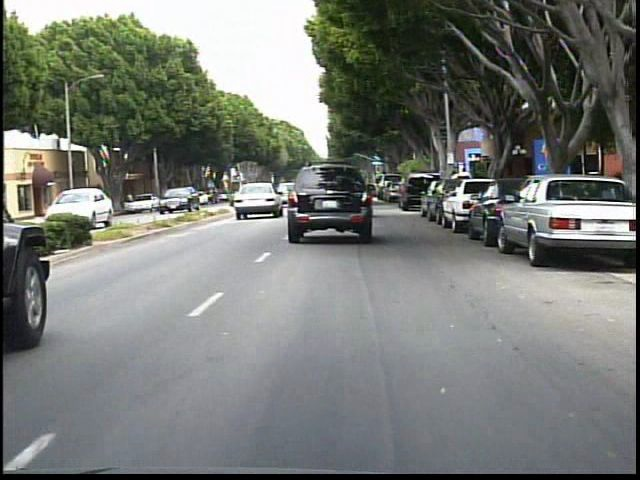person: (457, 168, 473, 204), (446, 167, 461, 204), (120, 188, 138, 214)
